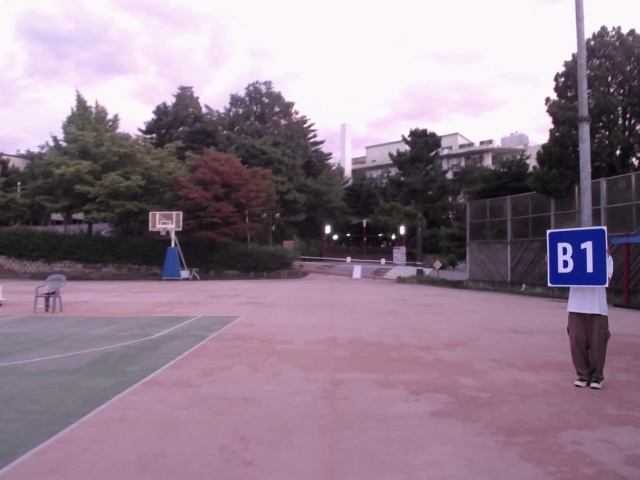delivery_b1: (546, 226, 608, 287)
